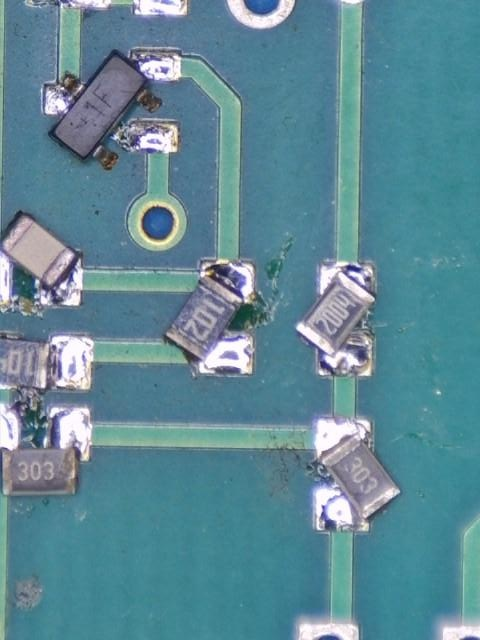pcb_defect: (41, 49, 181, 170), (163, 260, 257, 375), (314, 417, 403, 532), (295, 262, 377, 377), (0, 211, 83, 312), (0, 404, 91, 496), (0, 333, 93, 390)
